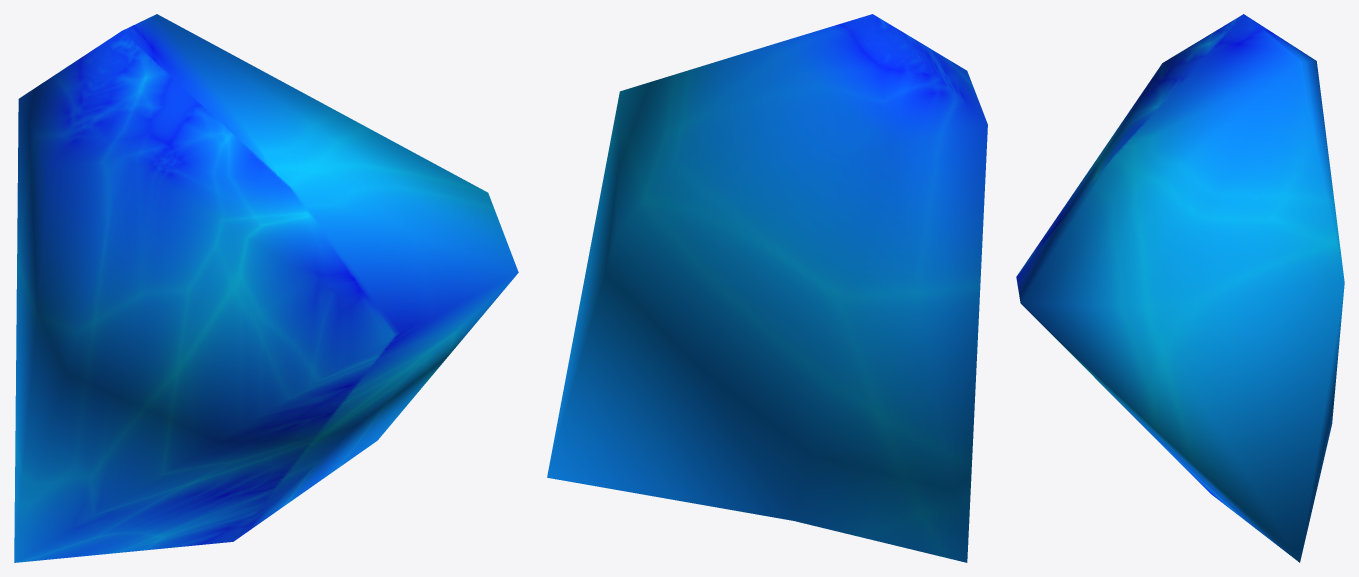
Rendered from MetalParticleLP.fbx.
3 renders of one model, left to right at view 1: azimuth 30°, elevation 25°; view 2: azimuth 150°, elevation 25°; view 3: azimuth 270°, elevation 25°, orthographic. The views are drawn at different scales.
Parts seen in each view (by area): view 1: MetalParticle.024; view 2: MetalParticle.024; view 3: MetalParticle.024.
Boxes of the visible parts, x1=… form: MetalParticle.024: x1=14, y1=14, x2=518, y2=562; MetalParticle.024: x1=547, y1=14, x2=987, y2=562; MetalParticle.024: x1=1016, y1=14, x2=1344, y2=562.
Bounding box in the file's own units: 75.85 × 92.06 × 62.07.
